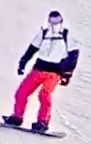snowboarder: (0, 10, 79, 139)
